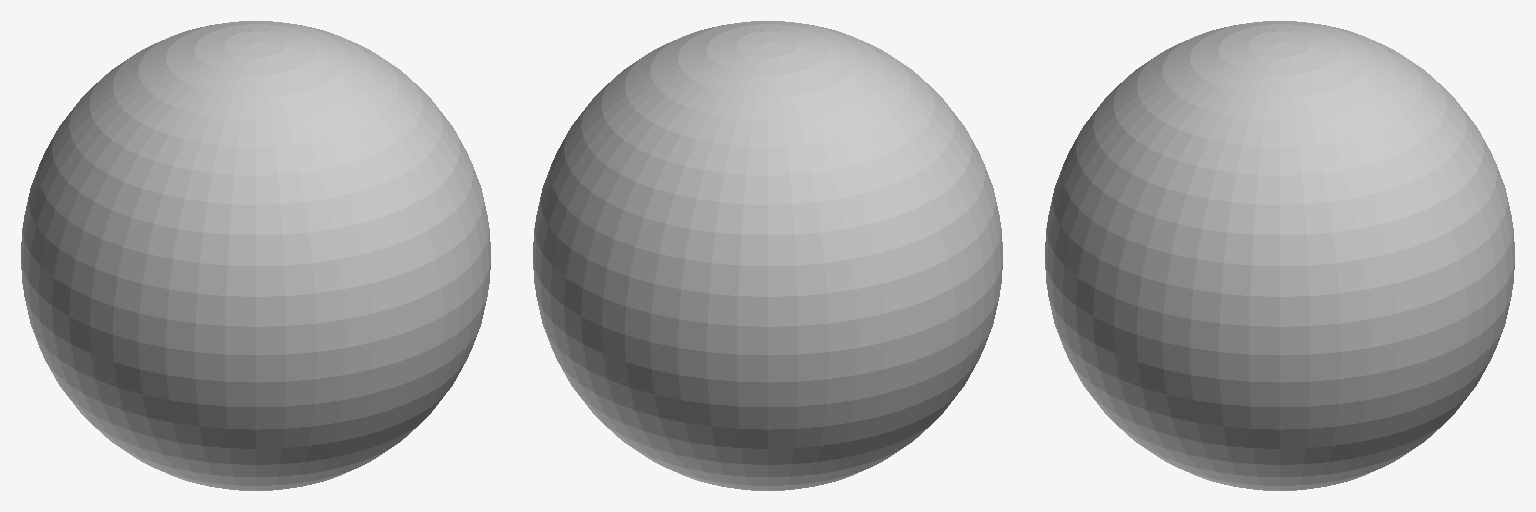
The model's file is star.obj.
The picture shows the model from 3 angles: view 1: azimuth 30°, elevation 25°; view 2: azimuth 150°, elevation 25°; view 3: azimuth 270°, elevation 25°; orthographic projection.
Parts seen in each view (by area): view 1: sphere; view 2: sphere; view 3: sphere.
Part boxes in pixels (bbox=[...]): sphere: bbox=[21, 21, 490, 490]; sphere: bbox=[533, 21, 1002, 490]; sphere: bbox=[1045, 21, 1514, 490].
Size of the model in its own units: 0.0625 by 0.0625 by 0.0625.